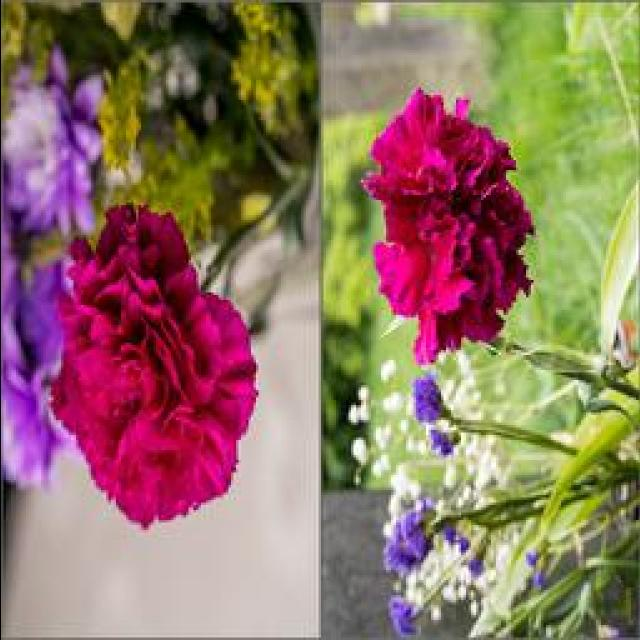carnation: (354, 85, 544, 362)
